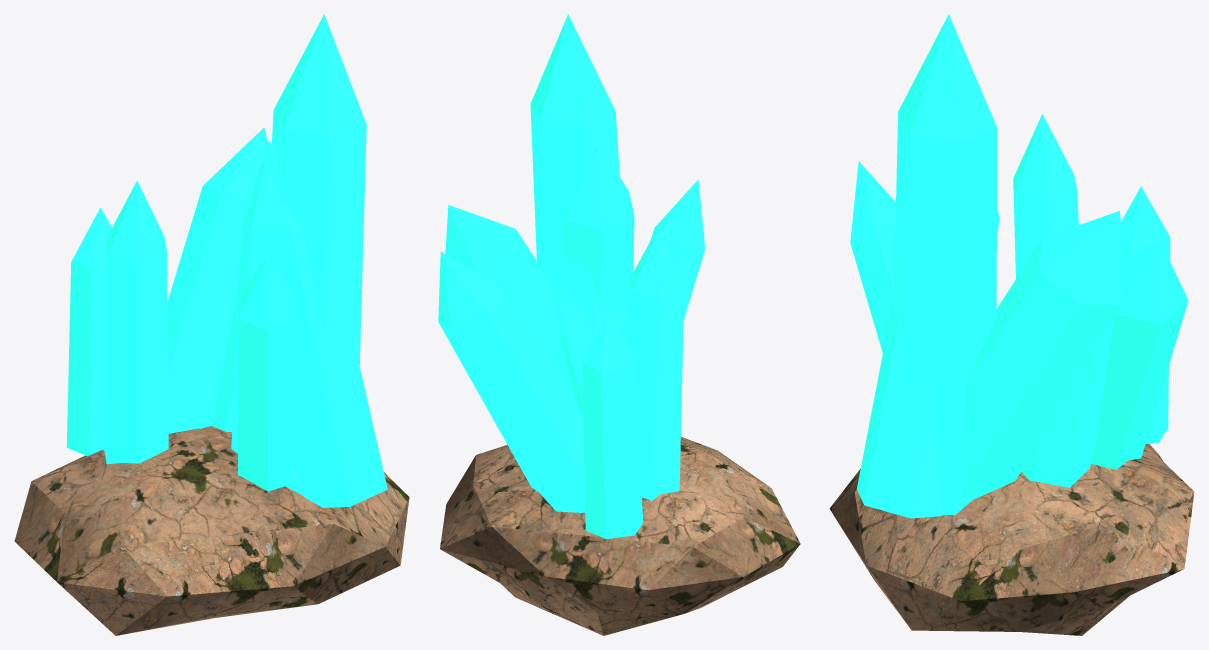
The model's file is Crystal_Teal_L.fbx.
3 views of the same model, side by side, from view 1: azimuth 30°, elevation 25°; view 2: azimuth 150°, elevation 25°; view 3: azimuth 270°, elevation 25° (orthographic). The views are drawn at different scales.
Parts seen in each view (by area): view 1: Crystal_Teal_L; view 2: Crystal_Teal_L; view 3: Crystal_Teal_L.
Boxes of the visible parts, x1,y1,x2,y2 form: Crystal_Teal_L: [14, 14, 409, 635]; Crystal_Teal_L: [438, 14, 800, 635]; Crystal_Teal_L: [829, 14, 1194, 635].
Bounding box in the file's own units: 3.3 × 5.36 × 2.8.
